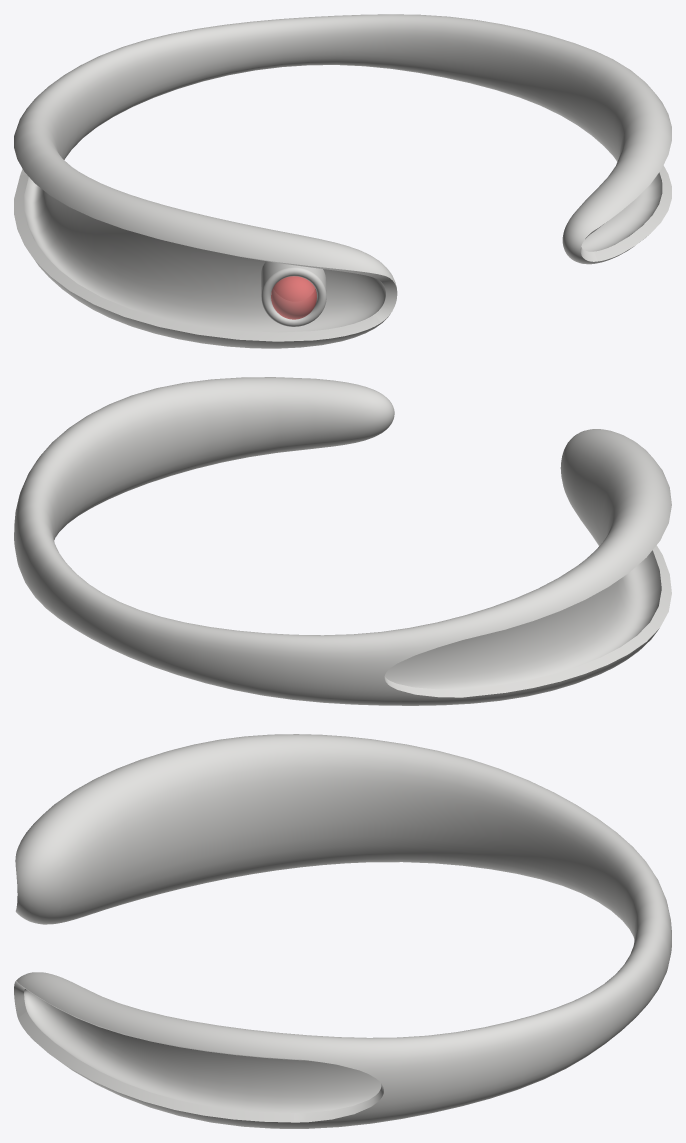
The picture shows the model from 3 angles, top to bottom: view 1: azimuth 30°, elevation 25°; view 2: azimuth 150°, elevation 25°; view 3: azimuth 270°, elevation 25°; orthographic projection. The views are drawn at different scales.
Visible parts, largest first — view 1: Body428, Body441, Body403; view 2: Body428; view 3: Body428.
Boxes of the visible parts, <box> form: Body428: <box>14,14,671,348</box>; Body441: <box>261,261,326,326</box>; Body403: <box>271,276,316,319</box>; Body428: <box>14,377,671,705</box>; Body428: <box>14,734,671,1128</box>.
Size of the model in its own units: 0.0235 by 0.00489 by 0.0216.
